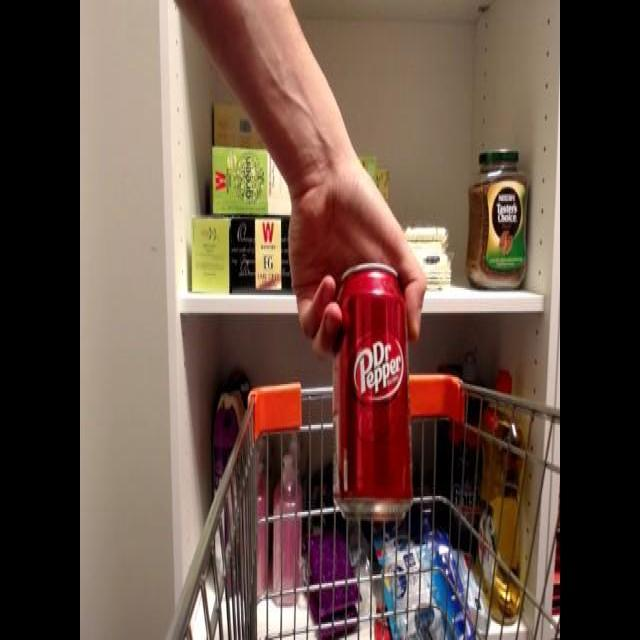Dr Pepper: (324, 260, 420, 530)
